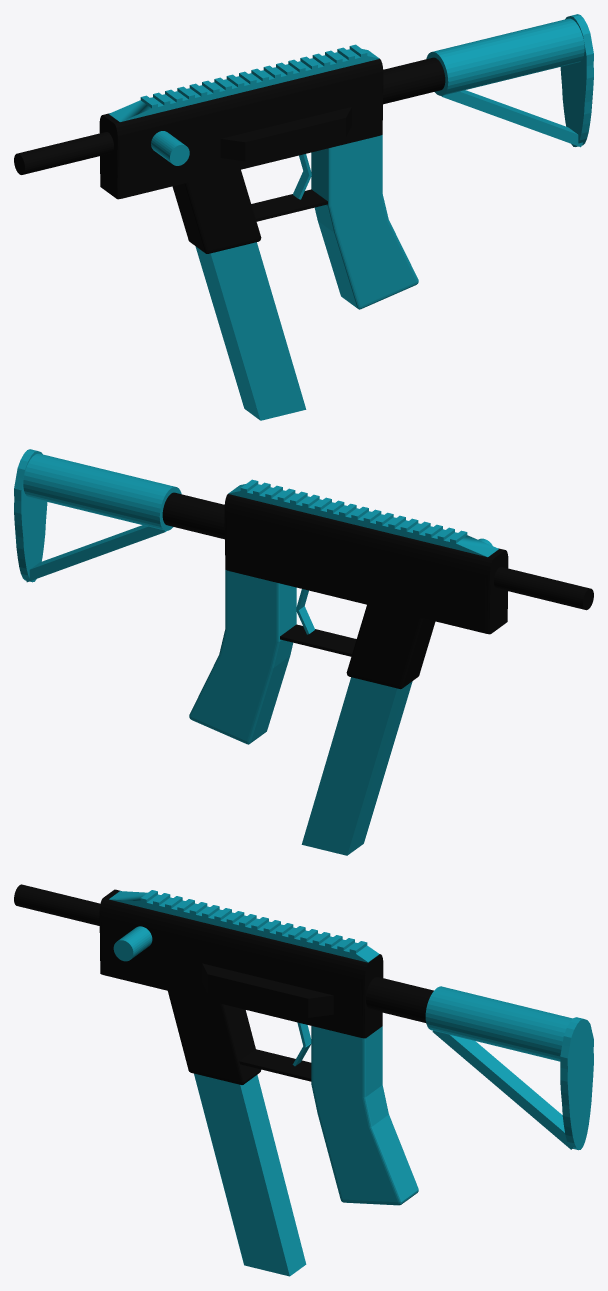
The model's file is fgc0007.obj.
3 views of the same model, one above another, from view 1: azimuth 30°, elevation 25°; view 2: azimuth 150°, elevation 25°; view 3: azimuth 330°, elevation 25° (orthographic).
Visible parts, largest first — view 1: upperReceiver, rearPistolGrip, mag, StockCylinder, magWell, picatinyRail, ejectorCover, buttPlate, barrel, bufferTube, stockSupport, lowerTriggerGuard (+1 smaller); view 2: upperReceiver, rearPistolGrip, mag, StockCylinder, magWell, picatinyRail, buttPlate, barrel, bufferTube, stockSupport, lowerTriggerGuard; view 3: upperReceiver, rearPistolGrip, mag, StockCylinder, magWell, picatinyRail, buttPlate, ejectorCover, stockSupport, bufferTube, barrel, lowerTriggerGuard (+1 smaller).
Boxes of the visible parts, box(x1,y1,x2,y2) form: upperReceiver: box(99, 58, 383, 199); rearPistolGrip: box(311, 135, 418, 309); mag: box(195, 242, 306, 420); StockCylinder: box(426, 18, 584, 95); magWell: box(172, 169, 261, 253); picatinyRail: box(109, 44, 379, 121); ejectorCover: box(220, 107, 351, 161); buttPlate: box(560, 14, 593, 146); barrel: box(14, 132, 113, 174); bufferTube: box(383, 57, 445, 104); stockSupport: box(441, 90, 582, 147); lowerTriggerGuard: box(251, 189, 327, 221); upperReceiver: box(224, 494, 508, 634); rearPistolGrip: box(189, 570, 296, 744); mag: box(301, 677, 412, 855); StockCylinder: box(23, 453, 181, 530); magWell: box(346, 605, 435, 689); picatinyRail: box(228, 479, 498, 557); buttPlate: box(14, 449, 47, 582); barrel: box(494, 567, 593, 610); bufferTube: box(162, 492, 224, 539); stockSupport: box(24, 525, 166, 582); lowerTriggerGuard: box(280, 624, 356, 656); upperReceiver: box(99, 889, 383, 1038); rearPistolGrip: box(311, 1026, 418, 1205); mag: box(194, 1073, 306, 1276); StockCylinder: box(425, 986, 572, 1061); magWell: box(168, 991, 260, 1084); picatinyRail: box(109, 890, 379, 962); buttPlate: box(560, 1017, 593, 1150); ejectorCover: box(202, 963, 333, 1017); stockSupport: box(432, 1030, 573, 1149); bufferTube: box(366, 977, 433, 1022); barrel: box(14, 884, 100, 925); lowerTriggerGuard: box(239, 1049, 311, 1081).
Size of the model in its own units: 4.56 by 2.64 by 0.5812.
